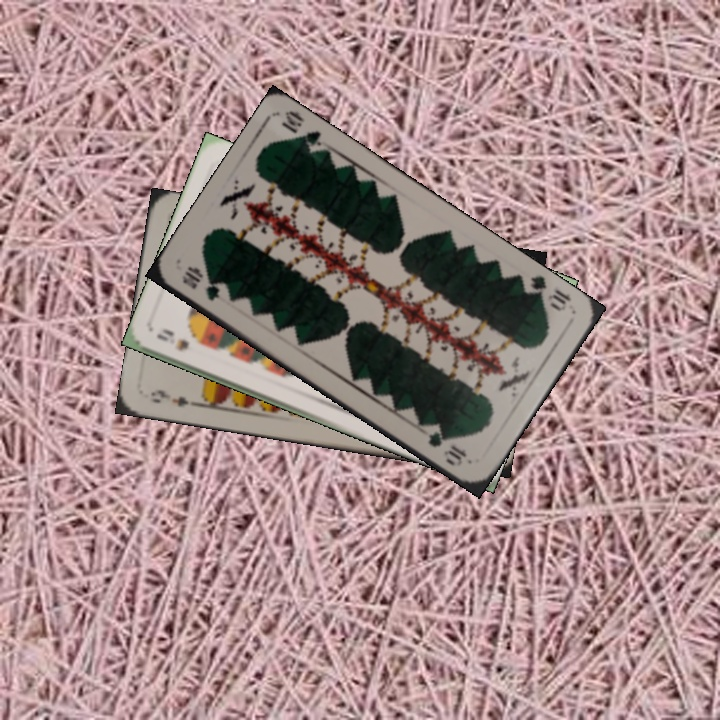E9: (147, 385, 202, 409)
G10: (518, 271, 574, 314), (177, 262, 223, 304)
S9: (152, 324, 192, 354)
